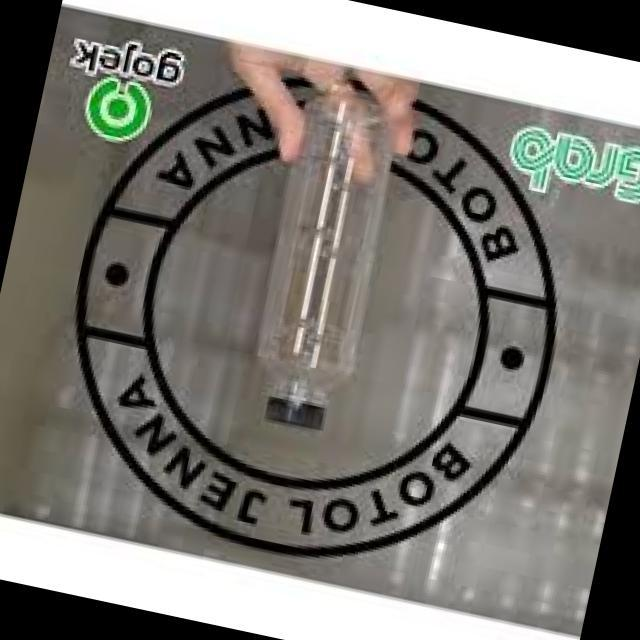good: (193, 56, 437, 446)
